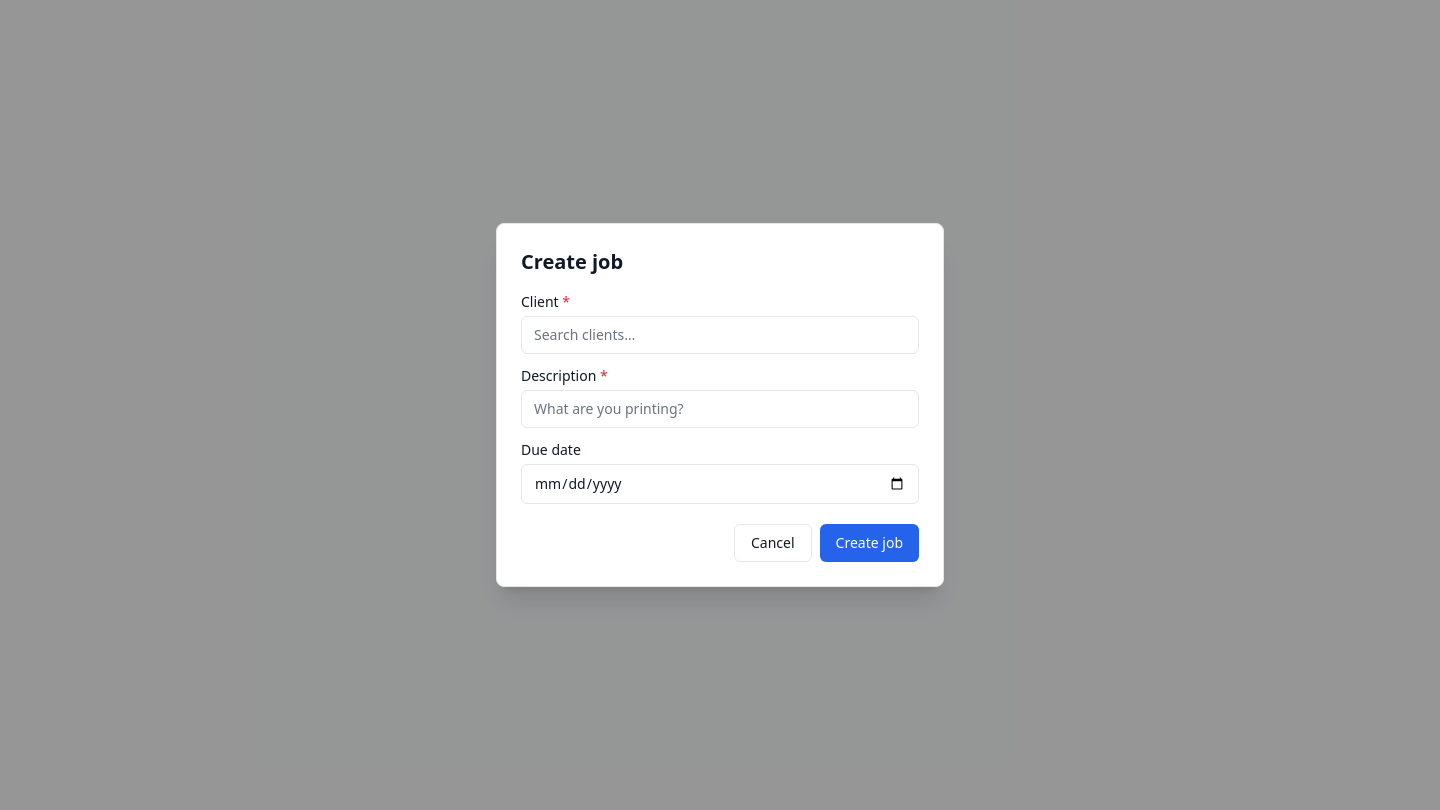
Test case: CreateJobDialog › rejects a missing client
Type "No client" into the field labelled "Description *" at (720, 409), box [521,390,919,428]
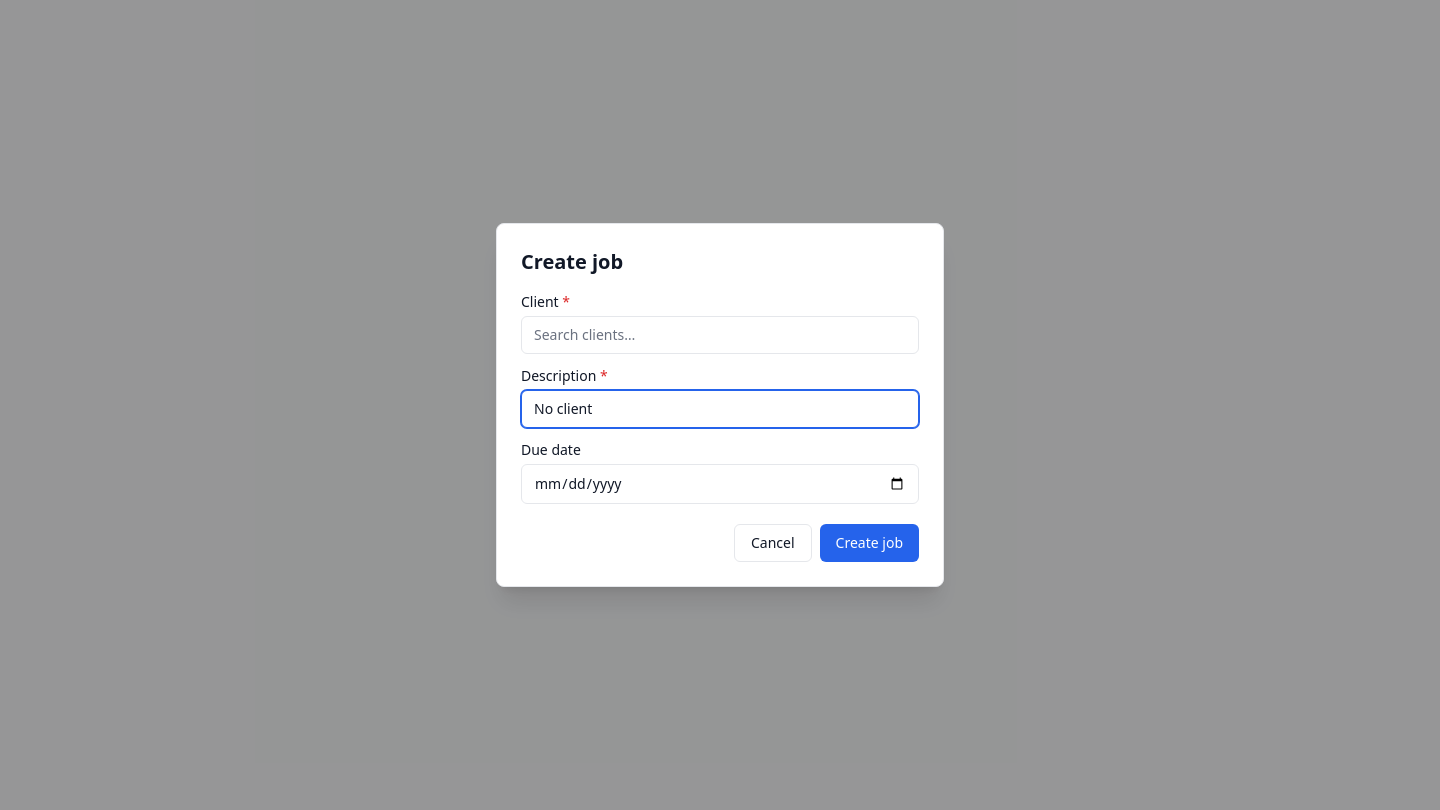
Click the button "Create job" at (869, 543), box [820,524,919,562]
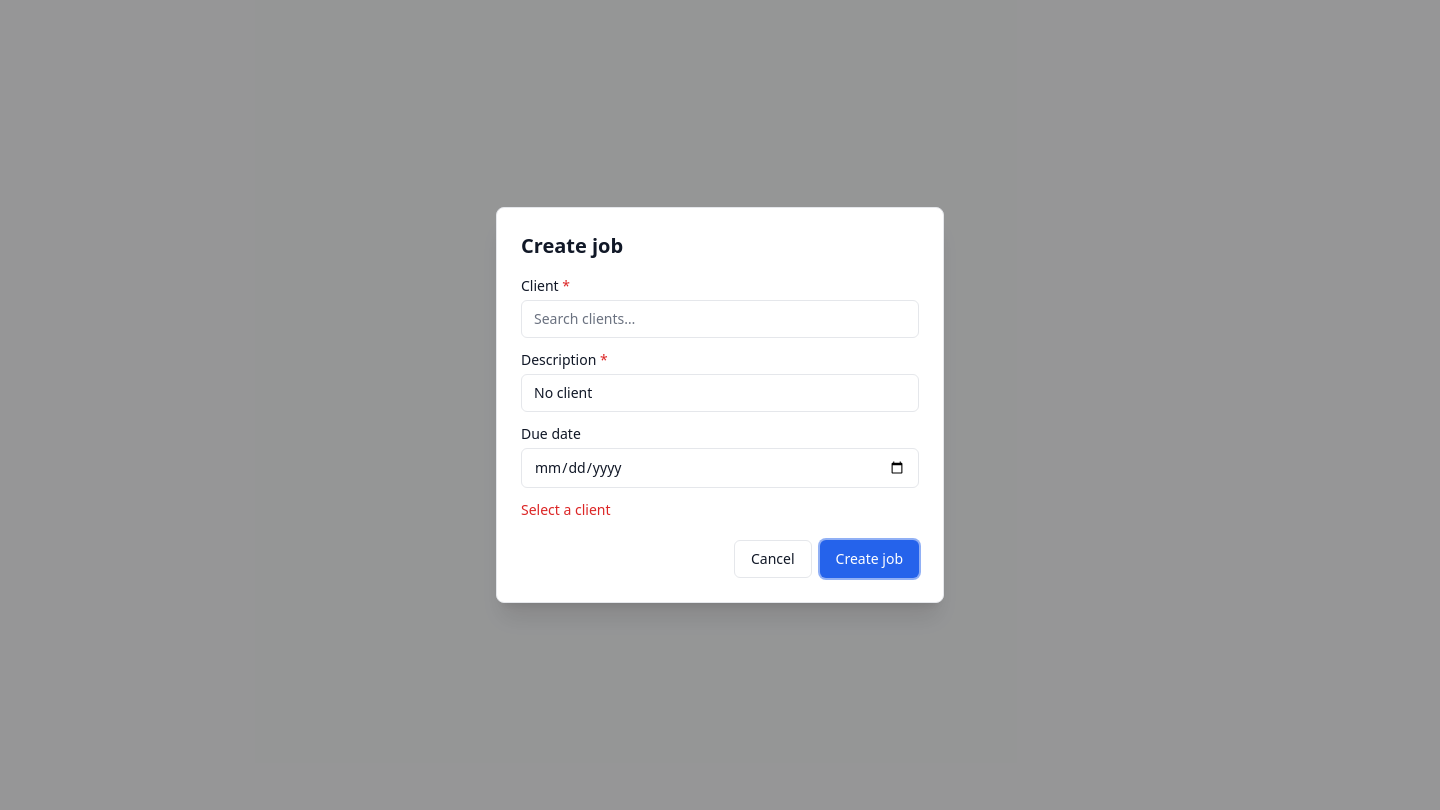
Expected: the message reads "Select a client", [521,500,610,519]
